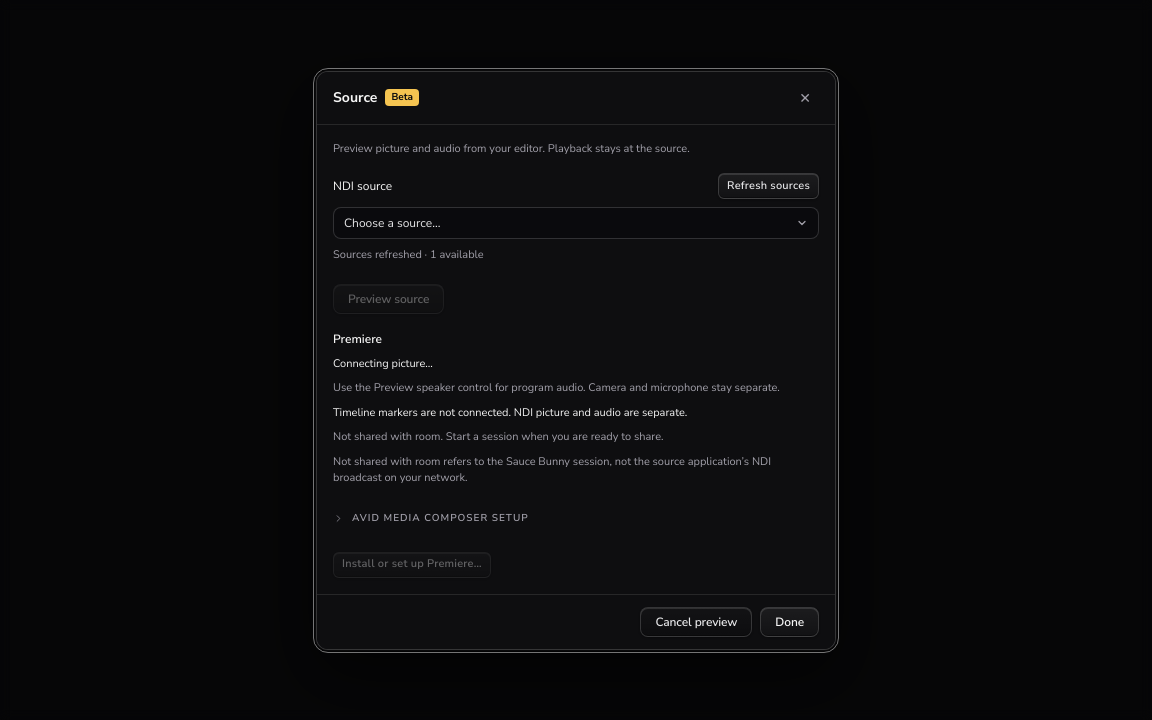
NDI preflight states › does not clear the active picture when its source disappears from discovery
This screenshot has width=1152, height=720.
Select "Premiere" in the dropdown labelled "NDI source": (576, 223) top-left (333, 207), bottom-right (819, 239)
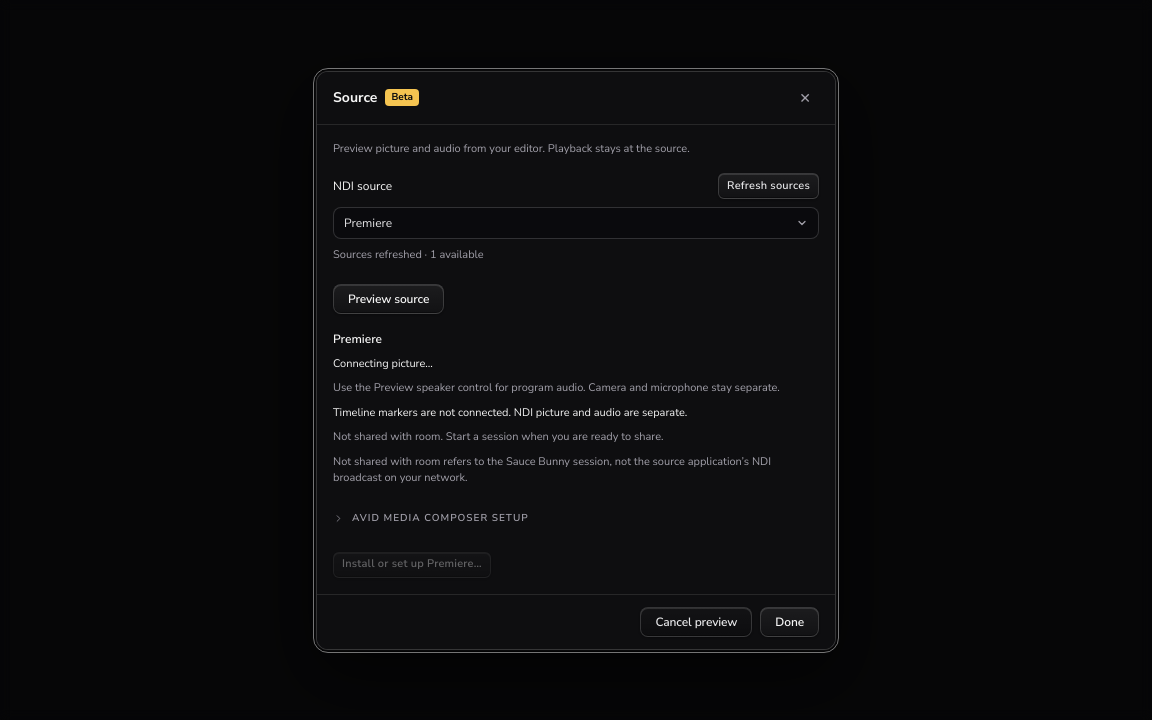
Click the button "Refresh sources": (769, 186) top-left (718, 173), bottom-right (819, 199)
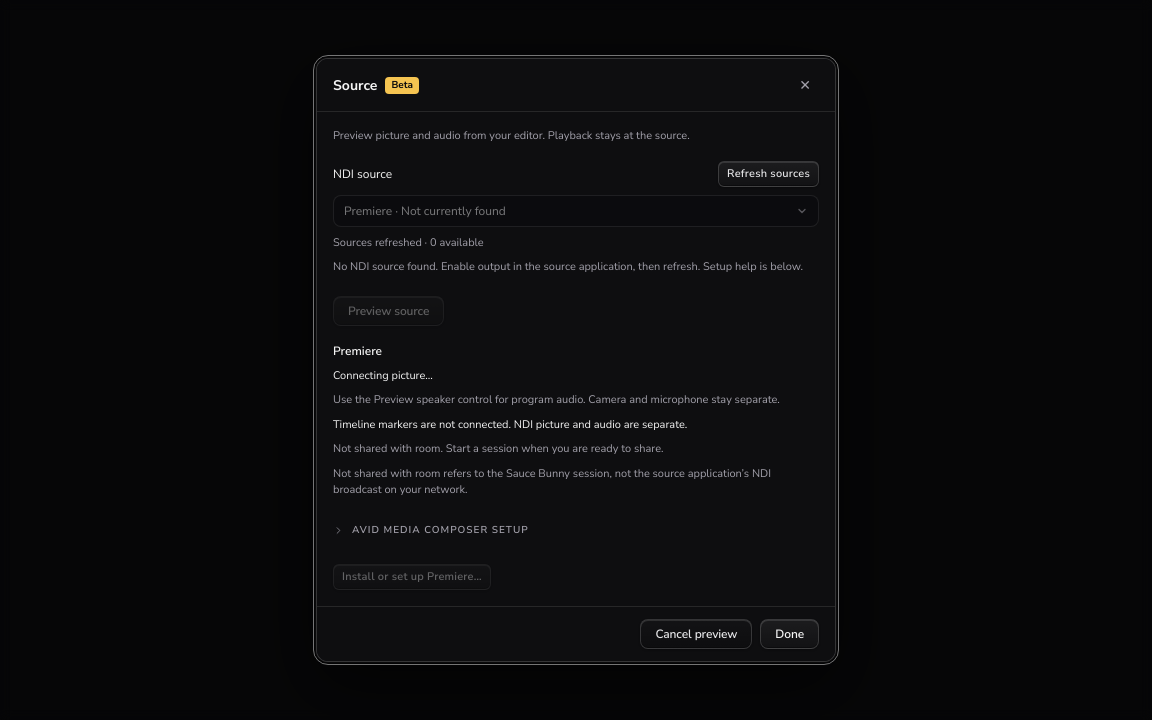
Expected: the text "Premiere" is shown, top-left (333, 343), bottom-right (382, 359)
Result: the text "No NDI source found" is shown at top-left (333, 259), bottom-right (803, 274)
